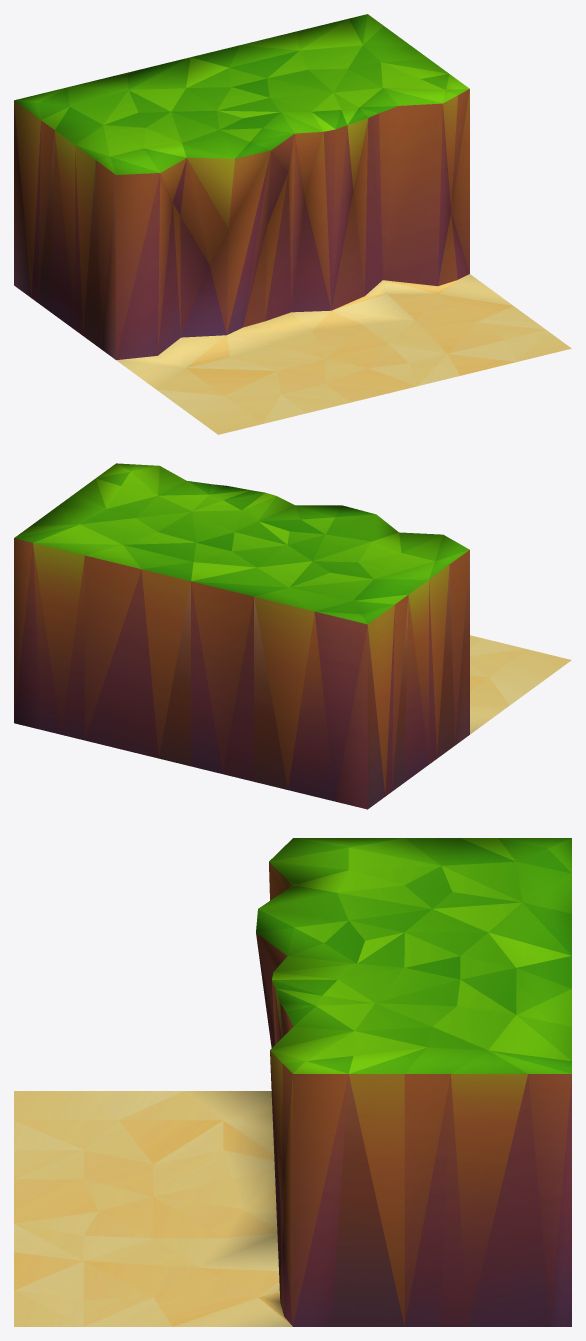
The model's file is GL-Terrain-part-14.fbx.
The picture shows the model from 3 angles, top to bottom: view 1: azimuth 30°, elevation 25°; view 2: azimuth 150°, elevation 25°; view 3: azimuth 270°, elevation 25°; orthographic projection. The views are drawn at different scales.
Parts seen in each view (by area): view 1: GL-Terrain-part-14; view 2: GL-Terrain-part-14; view 3: GL-Terrain-part-14.
Boxes of the visible parts, bbox=[...] form: GL-Terrain-part-14: bbox=[14, 14, 571, 434]; GL-Terrain-part-14: bbox=[14, 463, 571, 809]; GL-Terrain-part-14: bbox=[14, 838, 571, 1326].
Bounding box in the file's own units: 6 × 3 × 6.
